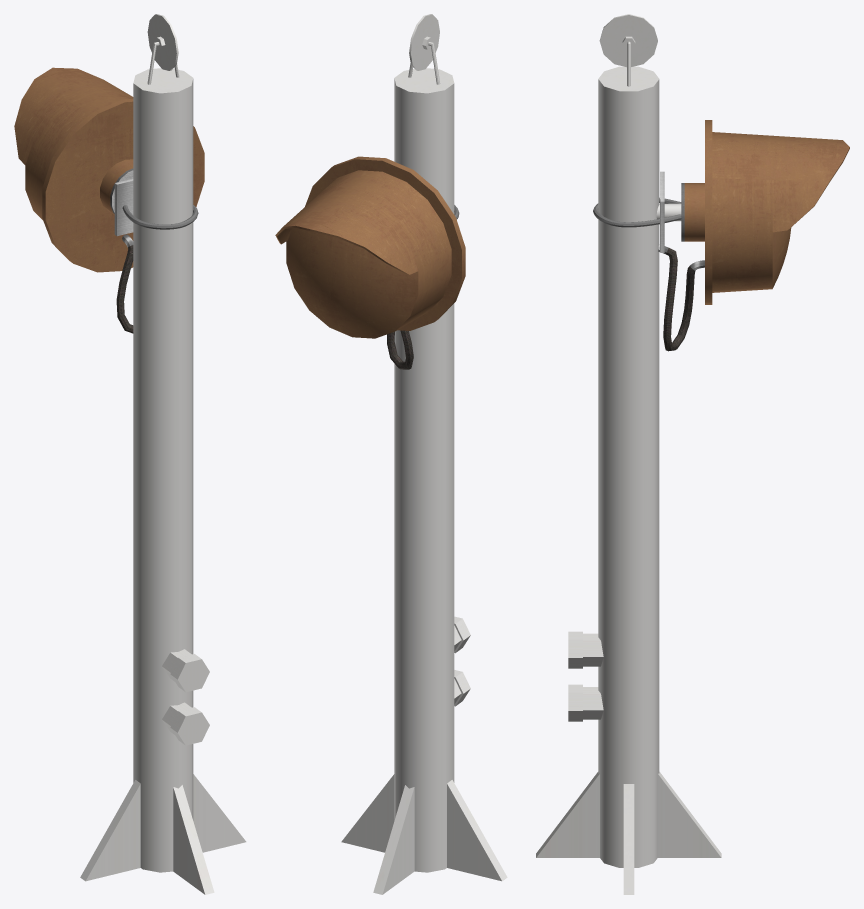
The model's file is weibo.FBX.
The picture shows the model from 3 angles, left to right: view 1: azimuth 30°, elevation 25°; view 2: azimuth 150°, elevation 25°; view 3: azimuth 270°, elevation 25°; orthographic projection.
Visible parts, largest first — view 1: weiboligan, weibotanceqi; view 2: weiboligan, weibotanceqi; view 3: weiboligan, weibotanceqi.
Part boxes in pixels (bbox=[...]): weiboligan: bbox=[80, 14, 246, 894]; weibotanceqi: bbox=[14, 67, 204, 333]; weiboligan: bbox=[341, 14, 507, 894]; weibotanceqi: bbox=[275, 156, 465, 369]; weiboligan: bbox=[536, 14, 721, 894]; weibotanceqi: bbox=[593, 120, 849, 351].
Bounding box in the file's own units: 33.81 × 169 × 57.17.
